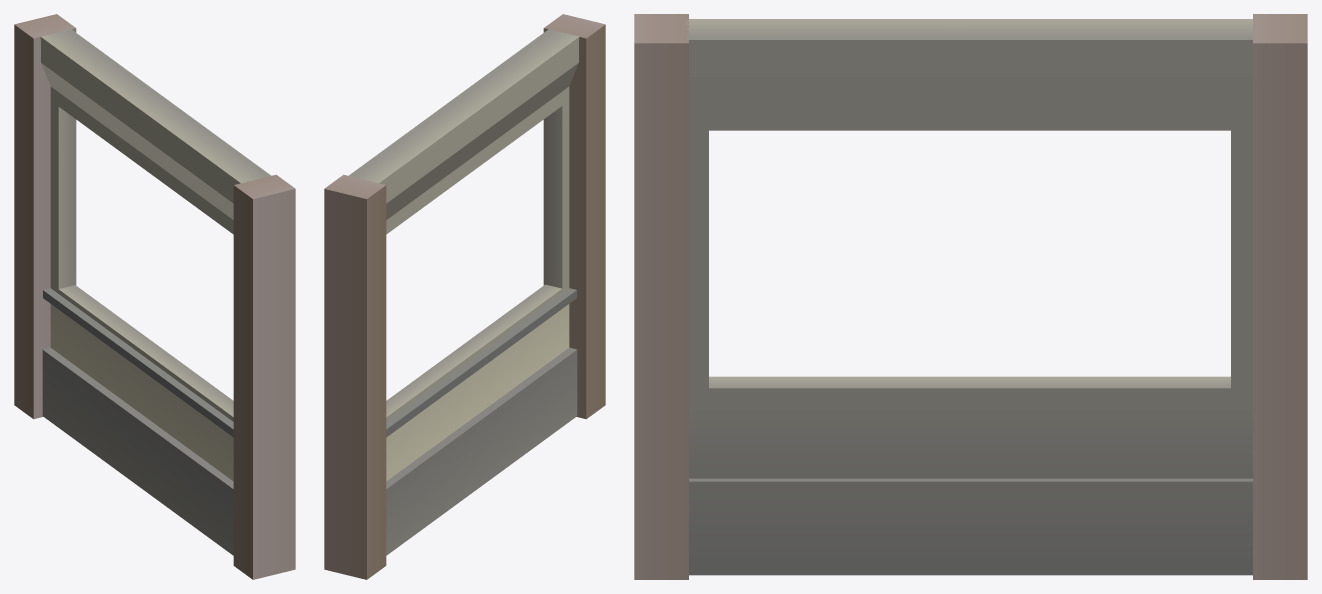
File: B01_fenetre_1.fbx
3 renders of one model, left to right at view 1: azimuth 30°, elevation 25°; view 2: azimuth 150°, elevation 25°; view 3: azimuth 270°, elevation 25°, orthographic. The views are drawn at different scales.
Parts seen in each view (by area): view 1: B01_fenetre_1; view 2: B01_fenetre_1; view 3: B01_fenetre_1.
Boxes of the visible parts, x1,y1,x2,y2 form: B01_fenetre_1: (14, 14, 295, 579); B01_fenetre_1: (324, 14, 605, 579); B01_fenetre_1: (634, 14, 1307, 579).
Size of the model in its own units: 35.78 by 305 by 347.
